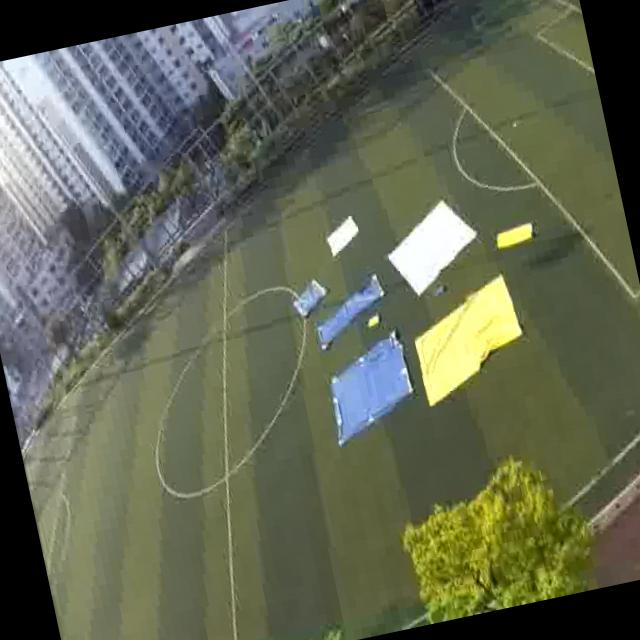danger: (325, 344, 413, 426), (344, 277, 383, 313), (294, 279, 328, 316)
safety: (382, 210, 472, 288), (322, 216, 364, 260)
warning: (406, 286, 526, 386), (492, 220, 537, 253)
